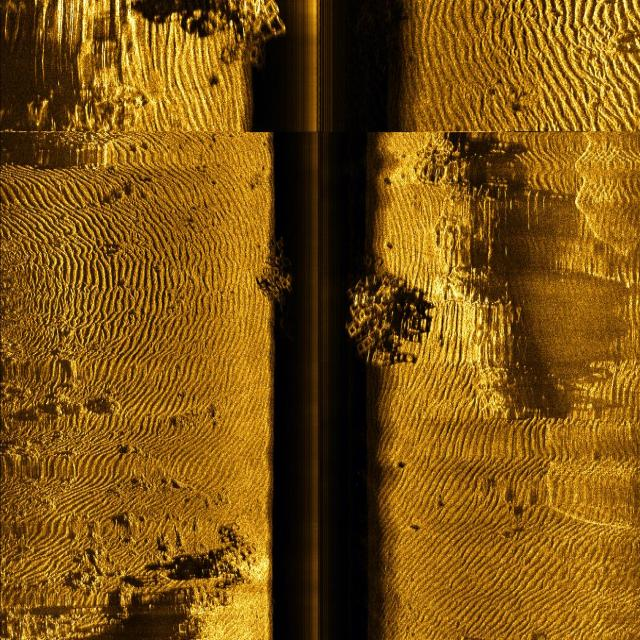artificial reef: (344, 248, 421, 386), (248, 218, 311, 360), (197, 0, 283, 64)
